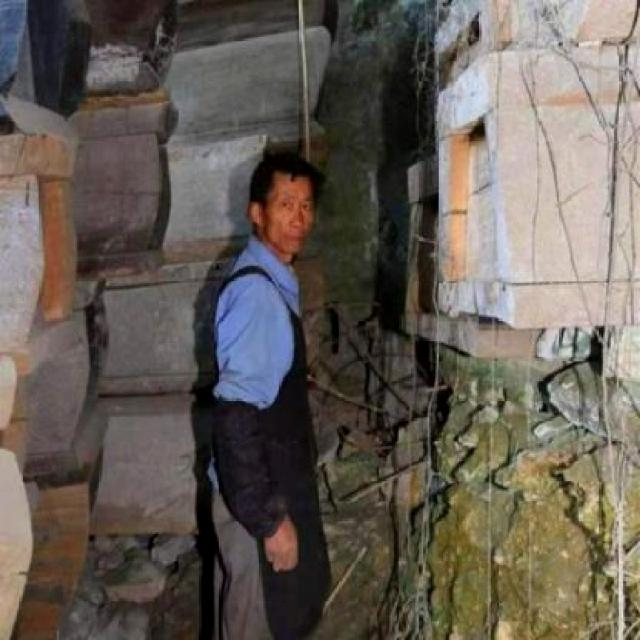face_nomask: (260, 180, 318, 255)
hand_noglove: (260, 517, 300, 577)
head_nohelmet: (255, 148, 323, 189)
person: (191, 141, 348, 640)
